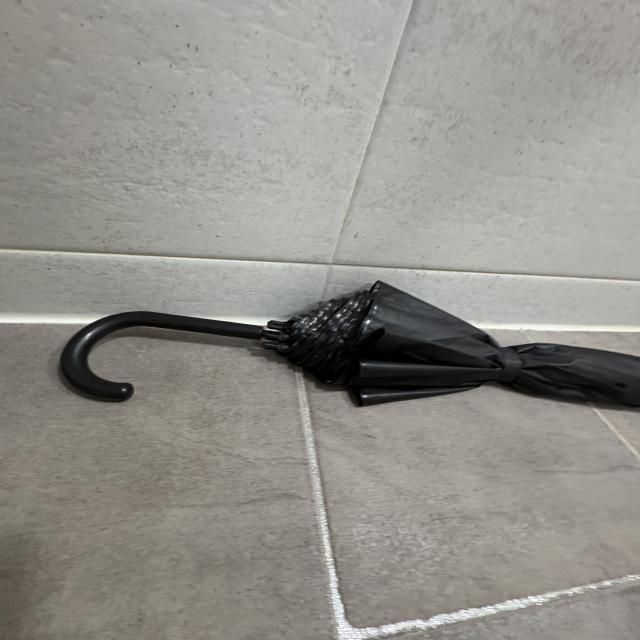umbrella: (61, 278, 640, 412)
